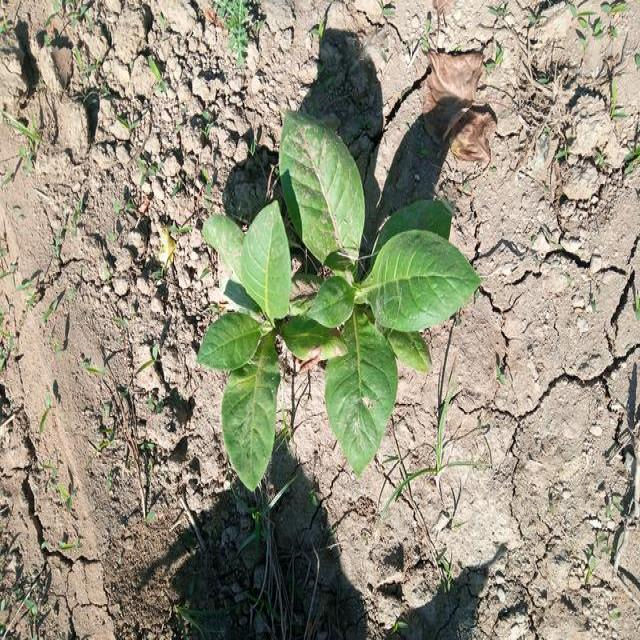crop: (202, 114, 478, 491)
